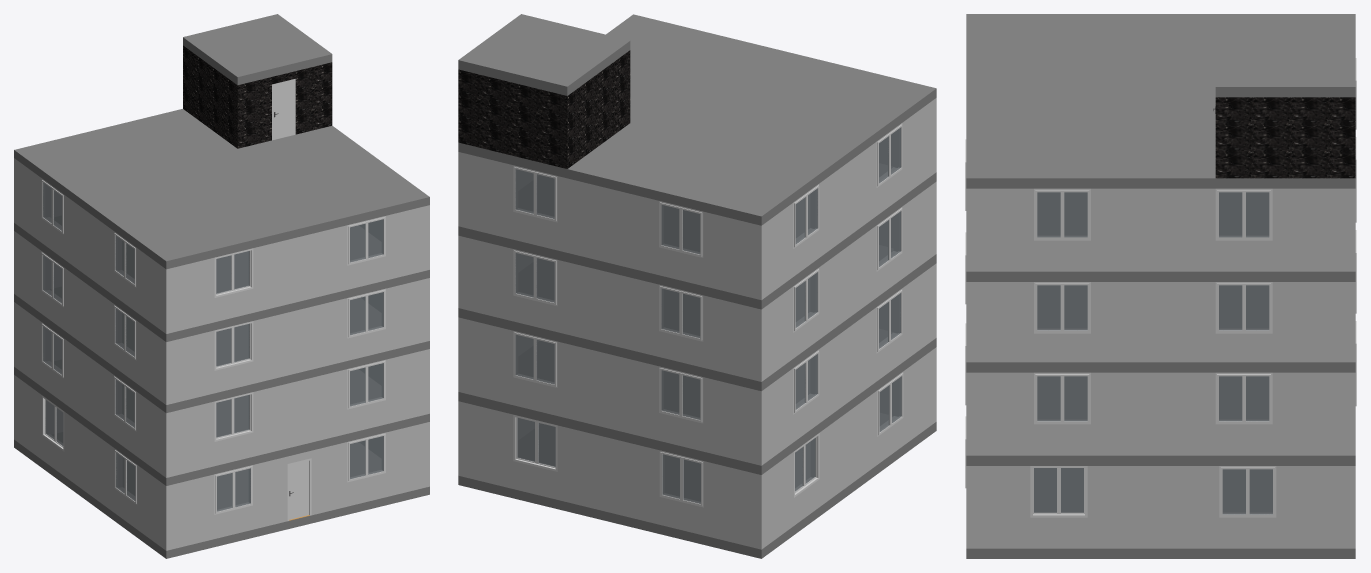
File: for research.fbx
3 views of the same model, side by side, from view 1: azimuth 30°, elevation 25°; view 2: azimuth 150°, elevation 25°; view 3: azimuth 270°, elevation 25° (orthographic). The views are drawn at different scales.
Parts seen in each view (by area): view 1: VT- (×15), Dekke- (×7), V- (×16), YD- (×2); view 2: VT- (×11), Dekke- (×6), V- (×16); view 3: VT- (×9), Dekke- (×7), V- (×8).
Part boxes in pixels (x1,y1,x2,y2): VT- (×15): (14, 45, 429, 550); Dekke- (×7): (14, 14, 429, 558); V- (×16): (41, 178, 385, 514); YD- (×2): (272, 79, 311, 520); VT- (×11): (458, 54, 936, 549); Dekke- (×6): (458, 14, 936, 558); V- (×16): (513, 123, 903, 507); VT- (×9): (966, 97, 1355, 548); Dekke- (×7): (966, 14, 1355, 558); V- (×8): (1030, 188, 1276, 517).
Size of the model in its own units: 1027 by 1027 by 1368.
Materials: 8 (3 with a texture image).
